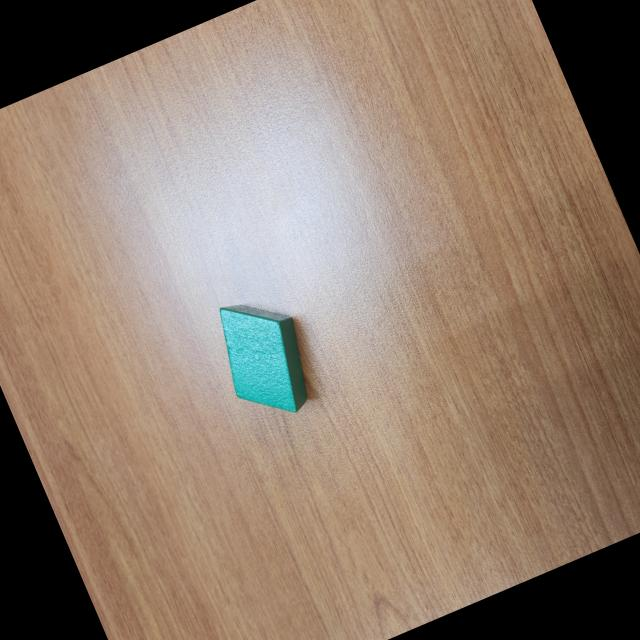green: (200, 282, 330, 432)
